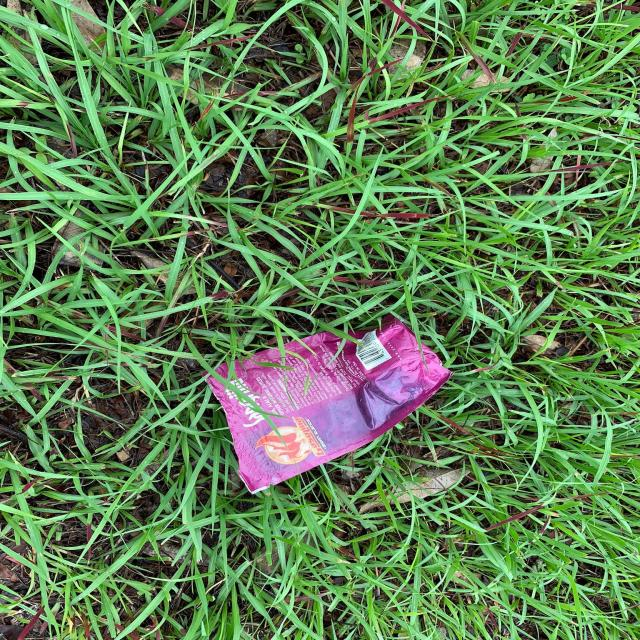litter: (202, 317, 457, 493)
